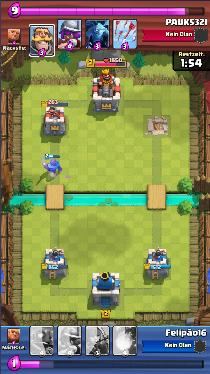ally_knight: (42, 158, 63, 175)
